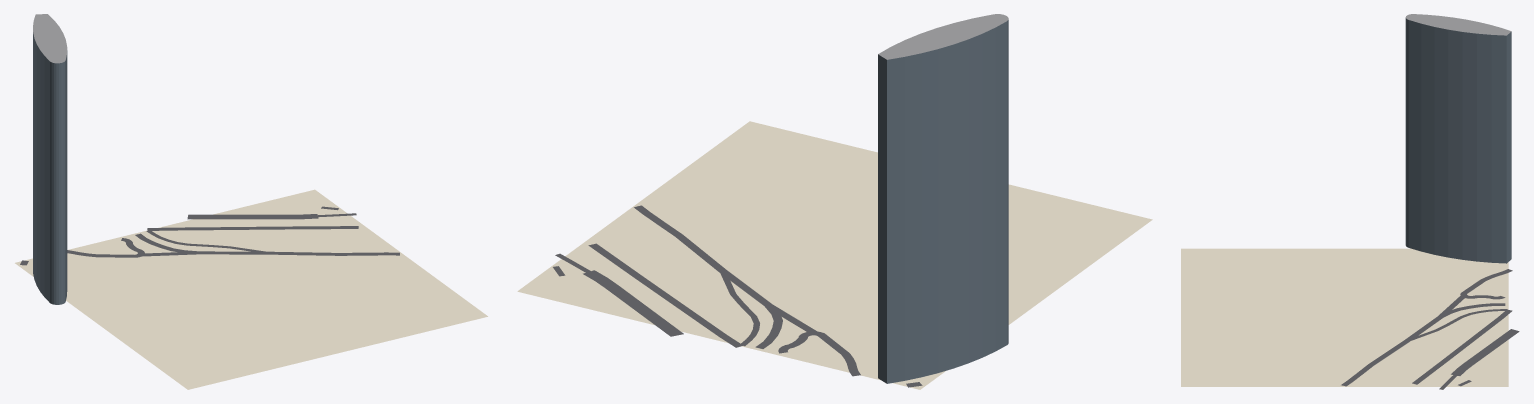
Rendered from tile_0_0_far.glb.
The picture shows the model from 3 angles, left to right: view 1: azimuth 30°, elevation 25°; view 2: azimuth 150°, elevation 25°; view 3: azimuth 270°, elevation 25°; orthographic projection. The views are drawn at different scales.
Visible parts, largest first — view 1: nature_ground, buildings_glass_dark, roads_asphalt, buildings_roof; view 2: nature_ground, buildings_glass_dark, roads_asphalt, buildings_roof; view 3: nature_ground, buildings_glass_dark, roads_asphalt, buildings_roof.
Boxes of the visible parts, x1,y1,x2,y2 form: nature_ground: [15, 189, 487, 389]; buildings_glass_dark: [33, 32, 67, 304]; roads_asphalt: [20, 206, 399, 265]; buildings_roof: [33, 14, 67, 63]; nature_ground: [517, 121, 1152, 389]; buildings_glass_dark: [878, 20, 1008, 383]; roads_asphalt: [553, 205, 922, 387]; buildings_roof: [878, 14, 1008, 59]; nature_ground: [1181, 248, 1508, 386]; buildings_glass_dark: [1405, 18, 1511, 263]; roads_asphalt: [1341, 269, 1519, 389]; buildings_roof: [1405, 14, 1511, 35].
Bounding box in the file's own units: 268 × 192 × 259.
